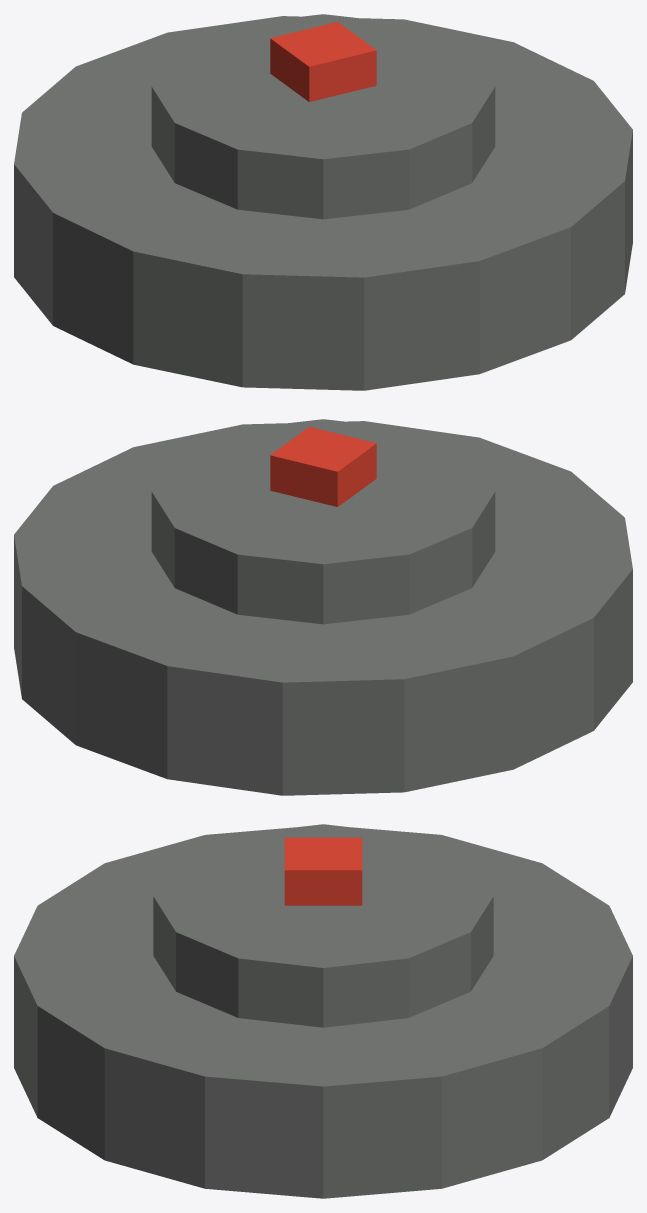
File: trap.glb
The picture shows the model from 3 angles, top to bottom: view 1: azimuth 30°, elevation 25°; view 2: azimuth 150°, elevation 25°; view 3: azimuth 270°, elevation 25°; orthographic projection.
Parts seen in each view (by area): view 1: TrapBase, TrapTop, TrapLight; view 2: TrapBase, TrapTop, TrapLight; view 3: TrapBase, TrapTop, TrapLight.
Boxes of the visible parts, <box> form: TrapBase: <box>14,16,632,390</box>; TrapTop: <box>151,14,495,219</box>; TrapLight: <box>270,22,376,101</box>; TrapBase: <box>14,421,632,795</box>; TrapTop: <box>151,419,495,624</box>; TrapLight: <box>270,427,376,506</box>; TrapBase: <box>14,827,632,1198</box>; TrapTop: <box>153,824,493,1027</box>; TrapLight: <box>284,837,362,905</box>.
Bounding box in the file's own units: 0.4 × 0.1525 × 0.4.
